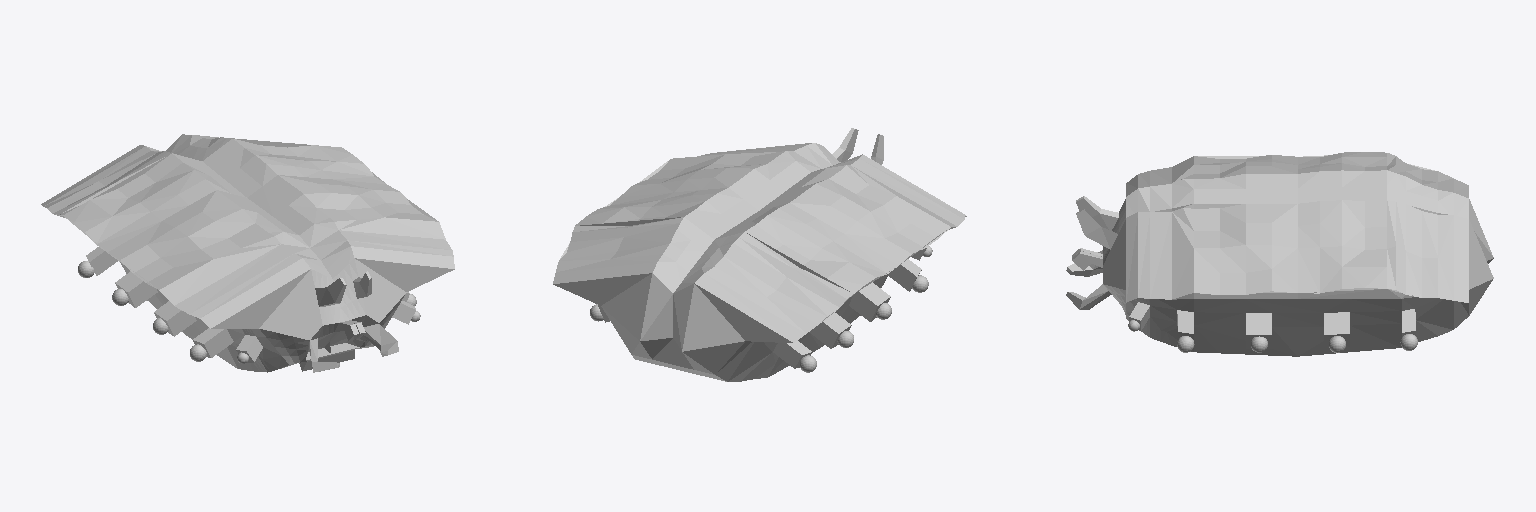
The model's file is body.obj.
The picture shows the model from 3 angles: view 1: azimuth 30°, elevation 25°; view 2: azimuth 150°, elevation 25°; view 3: azimuth 270°, elevation 25°; orthographic projection.
Parts seen in each view (by area): view 1: body_Cube; view 2: body_Cube; view 3: body_Cube.
Boxes of the visible parts, box(x1,y1,x2,y2) form: body_Cube: box(41, 134, 454, 372); body_Cube: box(553, 128, 966, 381); body_Cube: box(1066, 152, 1493, 356).
Size of the model in its own units: 4.54 by 2.19 by 5.99.